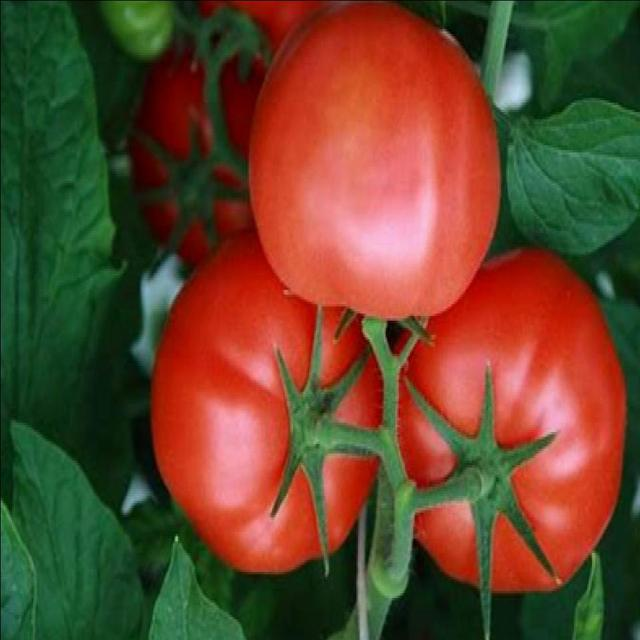Healthy Fruit: (92, 119, 340, 292)
